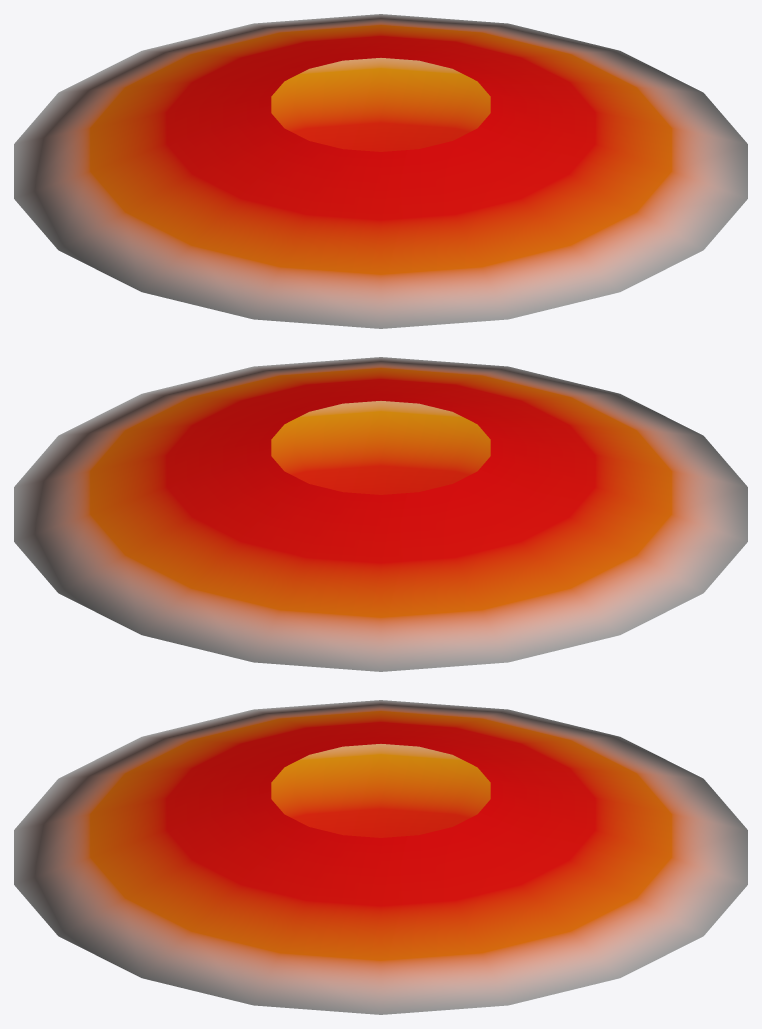
The model's file is y_yuanpan004.FBX.
3 views of the same model, one above another, from view 1: azimuth 30°, elevation 25°; view 2: azimuth 150°, elevation 25°; view 3: azimuth 270°, elevation 25° (orthographic).
Parts seen in each view (by area): view 1: Cylinder002; view 2: Cylinder002; view 3: Cylinder002.
Boxes of the visible parts, box(x1,y1,x2,y2) form: Cylinder002: box(14, 14, 747, 328); Cylinder002: box(14, 357, 747, 671); Cylinder002: box(14, 700, 747, 1014).
Bounding box in the file's own units: 53.26 × 10.5 × 52.45.
